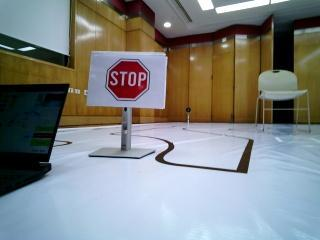stop: (95, 54, 156, 108)
